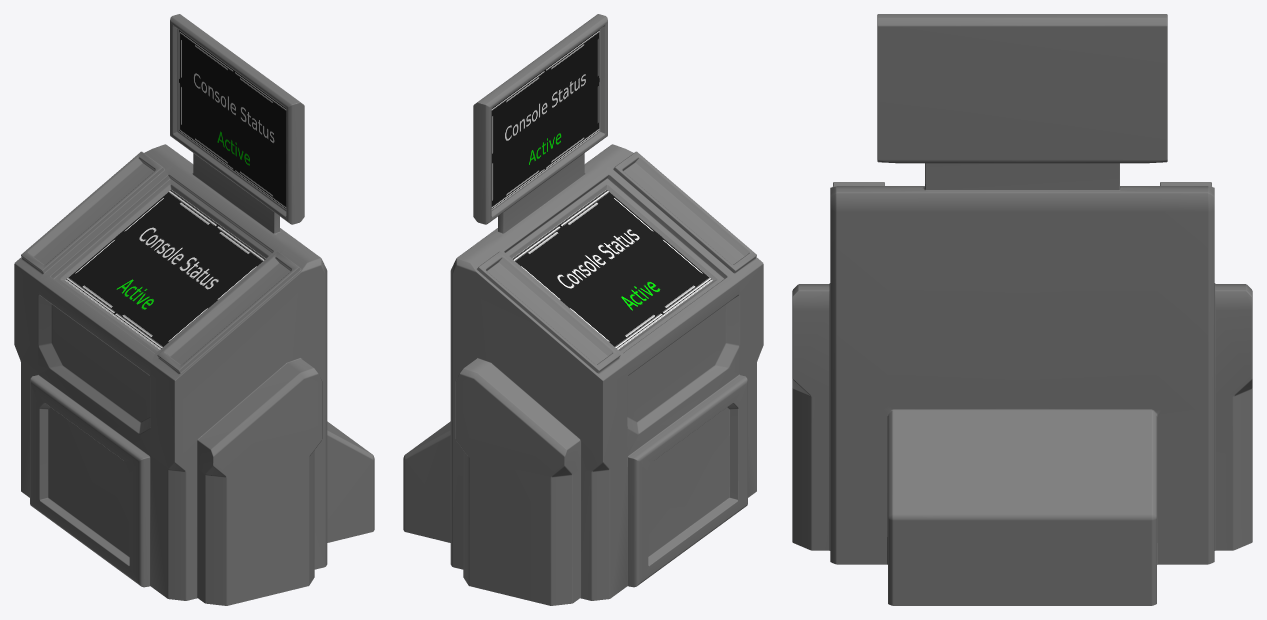
File: SM_Console_New.fbx
3 renders of one model, left to right at view 1: azimuth 30°, elevation 25°; view 2: azimuth 150°, elevation 25°; view 3: azimuth 270°, elevation 25°, orthographic. The views are drawn at different scales.
Parts seen in each view (by area): view 1: SM_Console; view 2: SM_Console; view 3: SM_Console.
Part boxes in pixels (x1,y1,x2,y2): SM_Console: [14, 14, 374, 605]; SM_Console: [403, 14, 763, 605]; SM_Console: [792, 14, 1252, 605].
Bounding box in the file's own units: 76.89 × 108 × 140.
